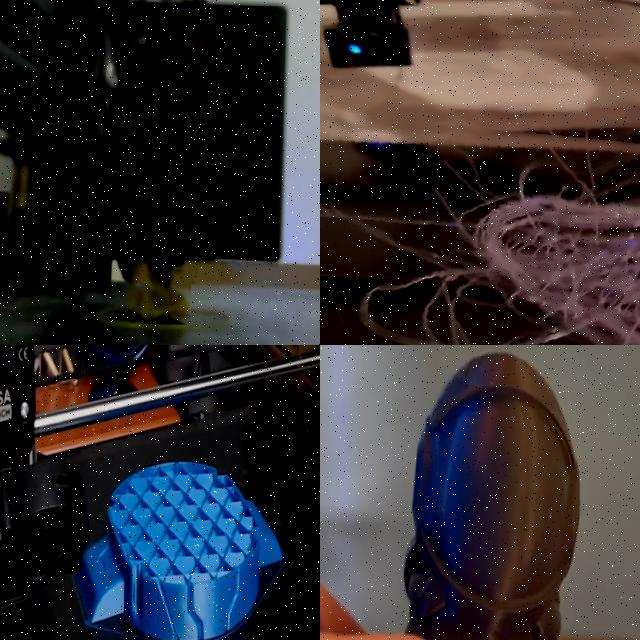spaghetti: (320, 111, 640, 345), (117, 264, 191, 324)
